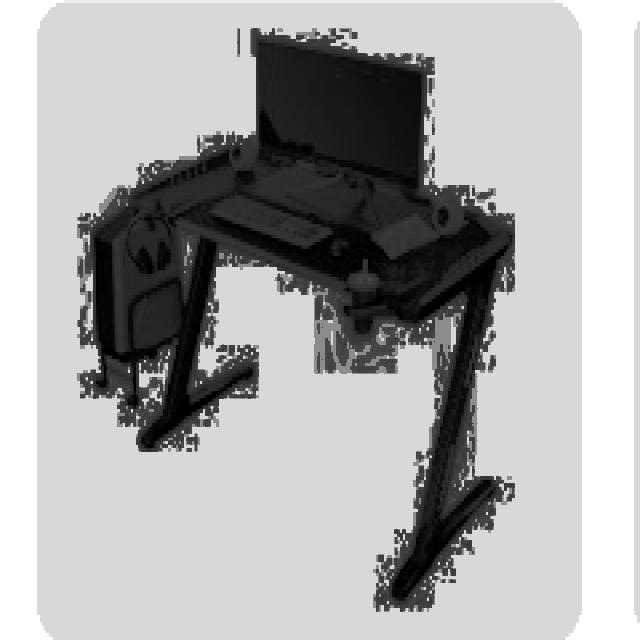table: (128, 142, 515, 601)
